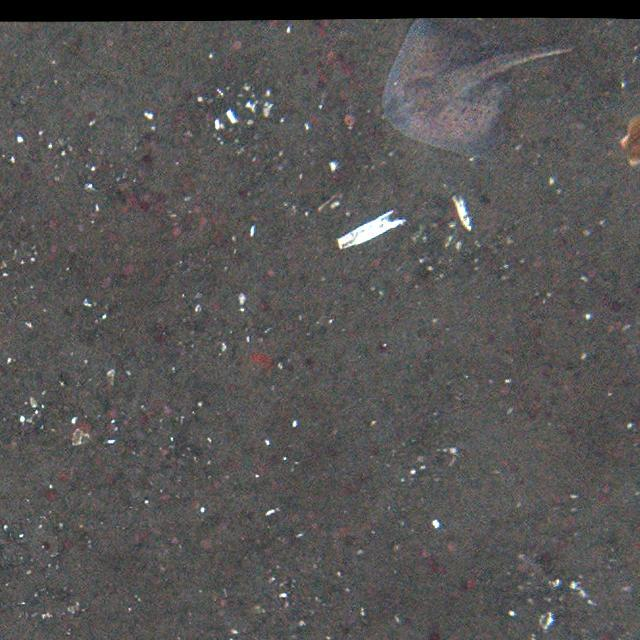skate: (370, 17, 576, 155)
